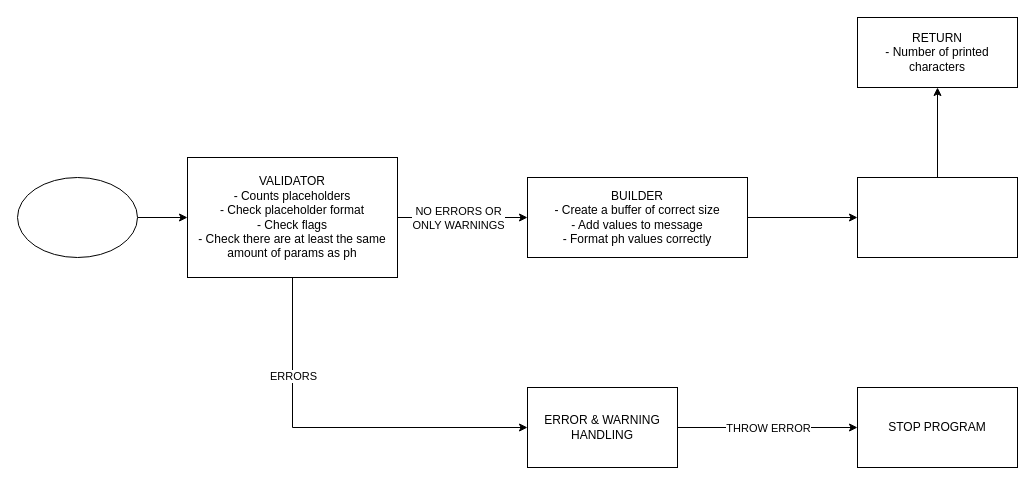
Some shapes in this 1035 by 485 pixel diagram are drawn without their labels. The shapes that lost their labels are listed below. From the top down, each one's box as (x1, y1, x2, y2) in pixels, then its label:
(16, 176, 138, 258): INPUT
(856, 176, 1018, 258): PRINTER - Print message to stdout
